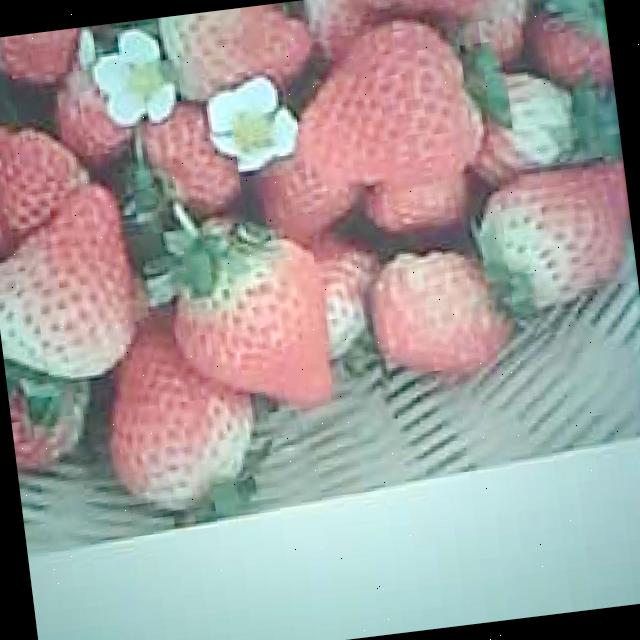strawberry: (288, 15, 484, 197), (166, 232, 337, 418), (0, 190, 148, 382), (464, 164, 638, 311)
